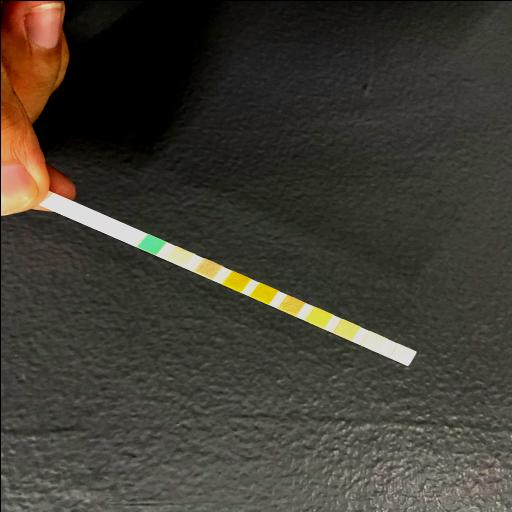Bilirubin: (172, 250, 187, 262)
Blood: (256, 286, 270, 299)
Glucose: (144, 238, 158, 250)
Ketone: (202, 262, 214, 275)
Leukocytes: (395, 348, 409, 360)
Nitrite: (366, 335, 380, 347)
Protein: (312, 311, 326, 323)
SpGravity: (229, 274, 243, 288)
Urobilinogen: (338, 323, 354, 335)
pH: (284, 299, 298, 311)
strip: (38, 189, 416, 365)
